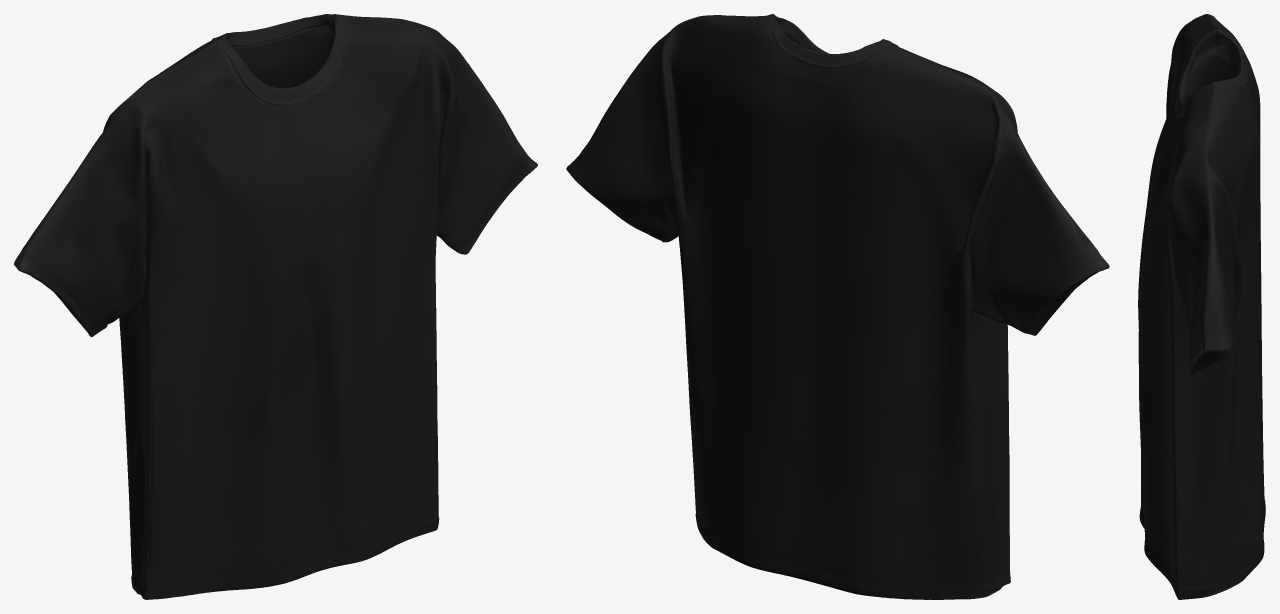
Rendered from black-tshirt-1.0.glb.
3 renders of one model, left to right at view 1: azimuth 30°, elevation 25°; view 2: azimuth 150°, elevation 25°; view 3: azimuth 270°, elevation 25°, orthographic. The views are drawn at different scales.
Visible parts, largest first — view 1: model; view 2: model; view 3: model.
Part boxes in pixels (box(x1,y1,x2,y2)): model: box(14, 14, 537, 599); model: box(566, 14, 1109, 599); model: box(1138, 14, 1265, 599).
Bounding box in the file's own units: 1.9 × 1.83 × 0.4373.
Materials: 1 (1 with a texture image).
